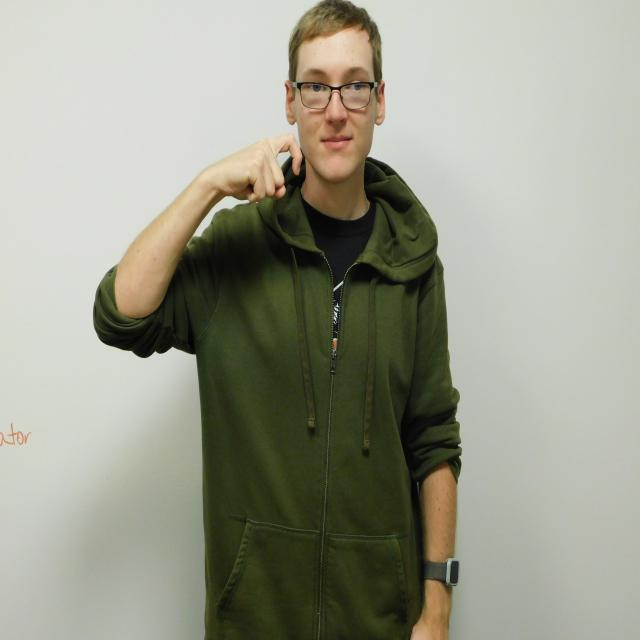apple: (218, 133, 303, 203)
